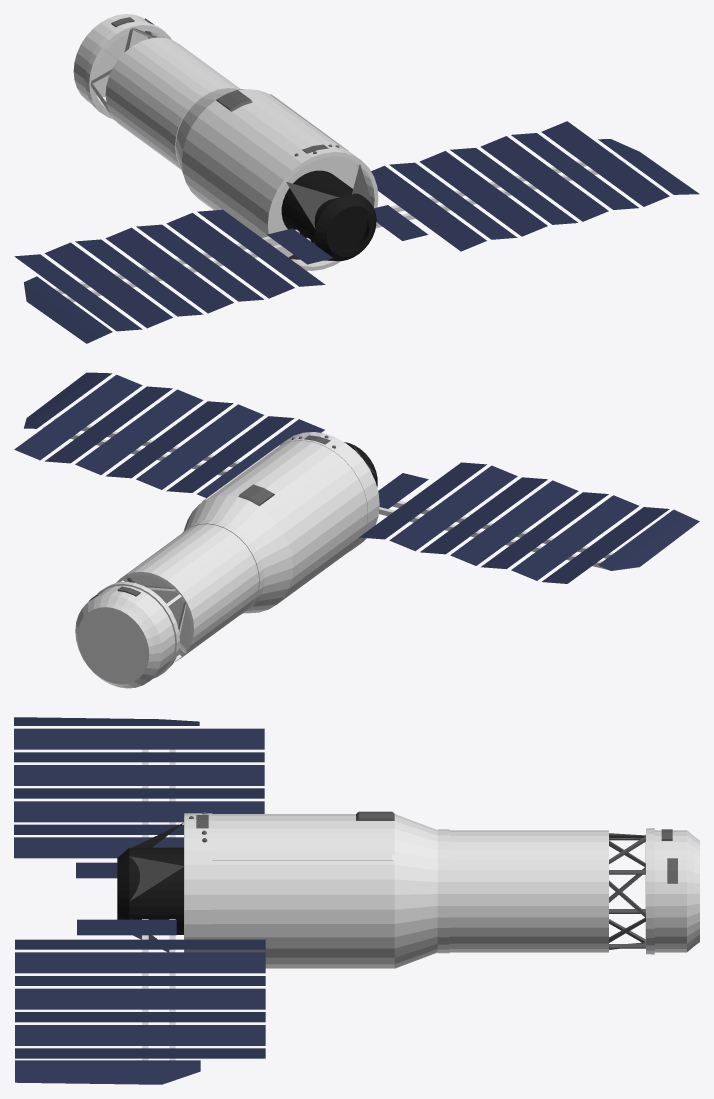
The model's file is RussianSatellite.fbx.
3 views of the same model, one above another, from view 1: azimuth 30°, elevation 25°; view 2: azimuth 150°, elevation 25°; view 3: azimuth 270°, elevation 25° (orthographic). The views are drawn at different scales.
Parts seen in each view (by area): view 1: Icosphere.004, Plane.011, Plane.010, Cube.019, Cube.018; view 2: Icosphere.004, Plane.011, Plane.010, Cube.018, Cube.019; view 3: Icosphere.004, Plane.010, Plane.011.
Boxes of the visible parts, <box> form: Icosphere.004: <box>73,14,378,270</box>; Plane.011: <box>14,209,333,343</box>; Plane.010: <box>371,121,699,251</box>; Cube.019: <box>65,161,625,302</box>; Cube.018: <box>54,152,614,294</box>; Icosphere.004: <box>75,432,379,688</box>; Plane.011: <box>359,462,699,583</box>; Plane.010: <box>14,372,324,497</box>; Cube.018: <box>43,425,607,569</box>; Cube.019: <box>54,417,613,558</box>; Icosphere.004: <box>117,811,699,968</box>; Plane.010: <box>15,919,265,1084</box>; Plane.011: <box>14,717,264,878</box>.
Size of the model in its own units: 1411 by 258 by 1120.
